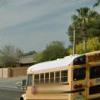Bus: (22, 47, 100, 100)
